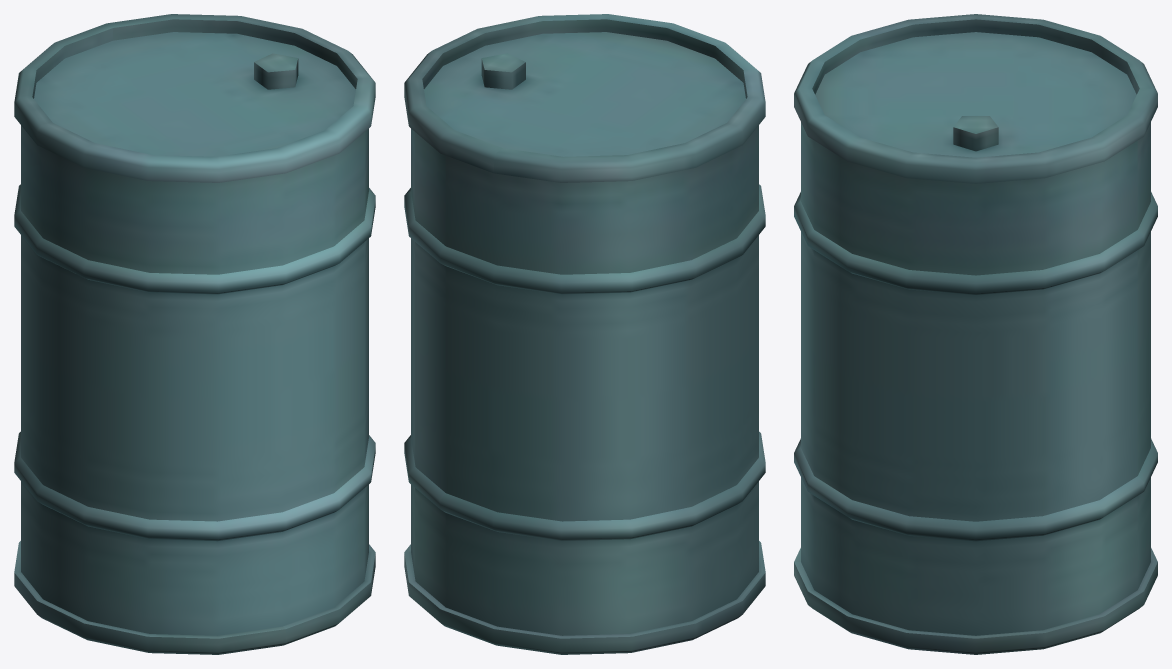
Rendered from YOUTong.glb.
3 renders of one model, left to right at view 1: azimuth 30°, elevation 25°; view 2: azimuth 150°, elevation 25°; view 3: azimuth 270°, elevation 25°, orthographic.
Visible parts, largest first — view 1: YOU1; view 2: YOU1; view 3: YOU1.
Boxes of the visible parts, left/top/right/bottom form: YOU1: left=14, top=14, right=375, bottom=654; YOU1: left=404, top=14, right=765, bottom=654; YOU1: left=794, top=14, right=1157, bottom=654.
Size of the model in its own units: 0.541 by 0.8145 by 0.541.
1 material, 1 textured.
